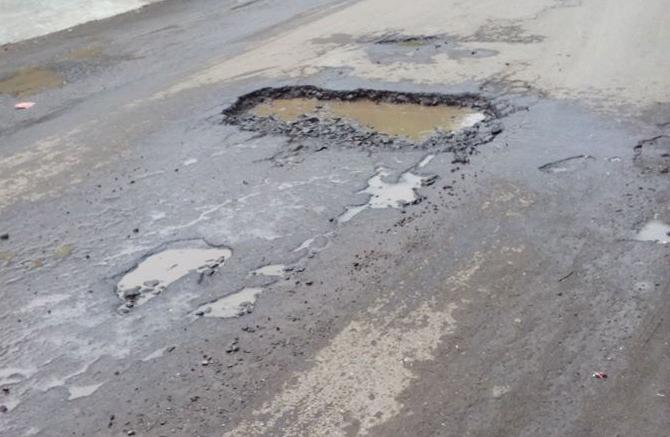Pothole: (195, 50, 497, 196), (67, 223, 295, 334)
